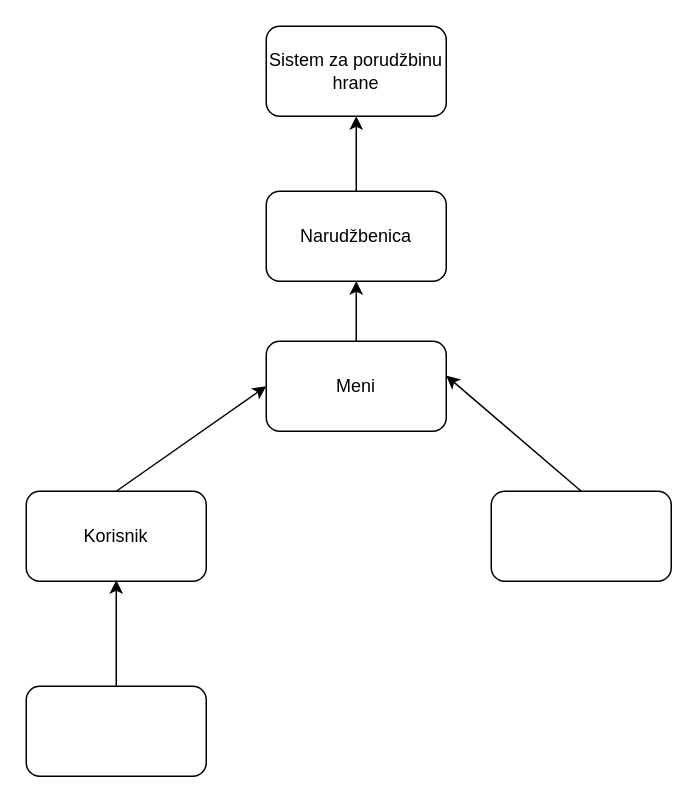
Image size: 698x803. Some labels were removed from this diagram. Each missing label, with the box of its shape:
Autentikacija: (25, 685, 206, 776)
Hrana: (490, 490, 671, 581)
